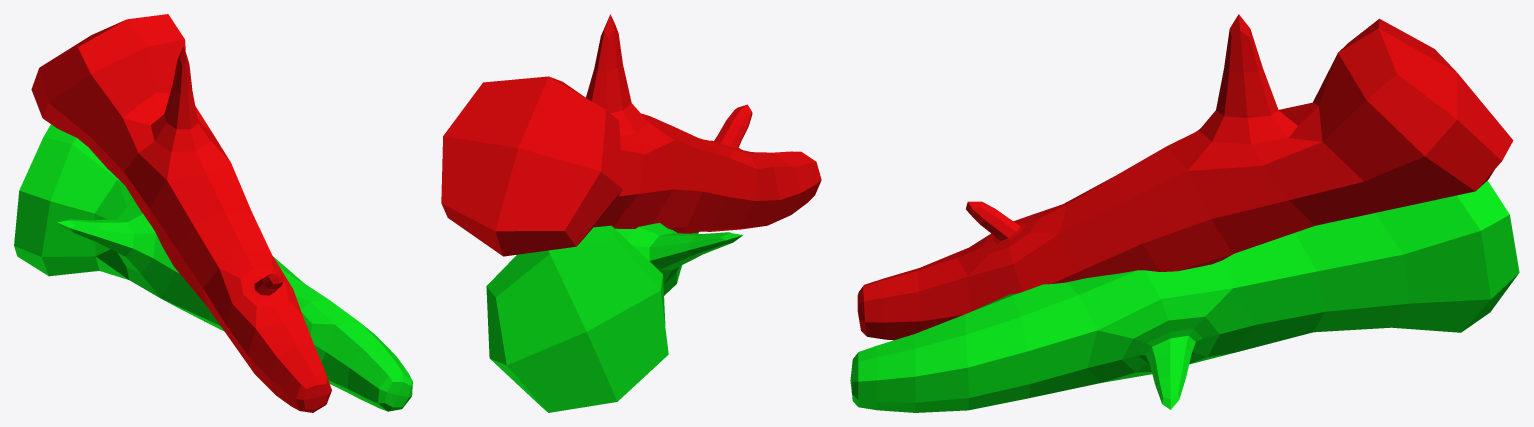
Rendered from roots.fbx.
The picture shows the model from 3 angles, left to right: view 1: azimuth 30°, elevation 25°; view 2: azimuth 150°, elevation 25°; view 3: azimuth 270°, elevation 25°; orthographic projection. The views are drawn at different scales.
Parts seen in each view (by area): view 1: Cube, Cube.001; view 2: Cube, Cube.001; view 3: Cube, Cube.001.
Part boxes in pixels (x1,y1,x2,y2): Cube: [31, 14, 331, 412]; Cube.001: [14, 124, 412, 411]; Cube: [441, 14, 821, 256]; Cube.001: [486, 223, 742, 412]; Cube: [857, 14, 1513, 340]; Cube.001: [850, 180, 1519, 412].
Size of the model in its own units: 408 by 484 by 829.
